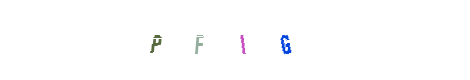F: (182, 0, 262, 80)
G: (245, 0, 325, 80)
I: (195, 0, 275, 80)
P: (115, 0, 195, 80)
